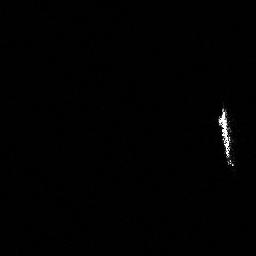ship: (216, 104, 235, 170)
